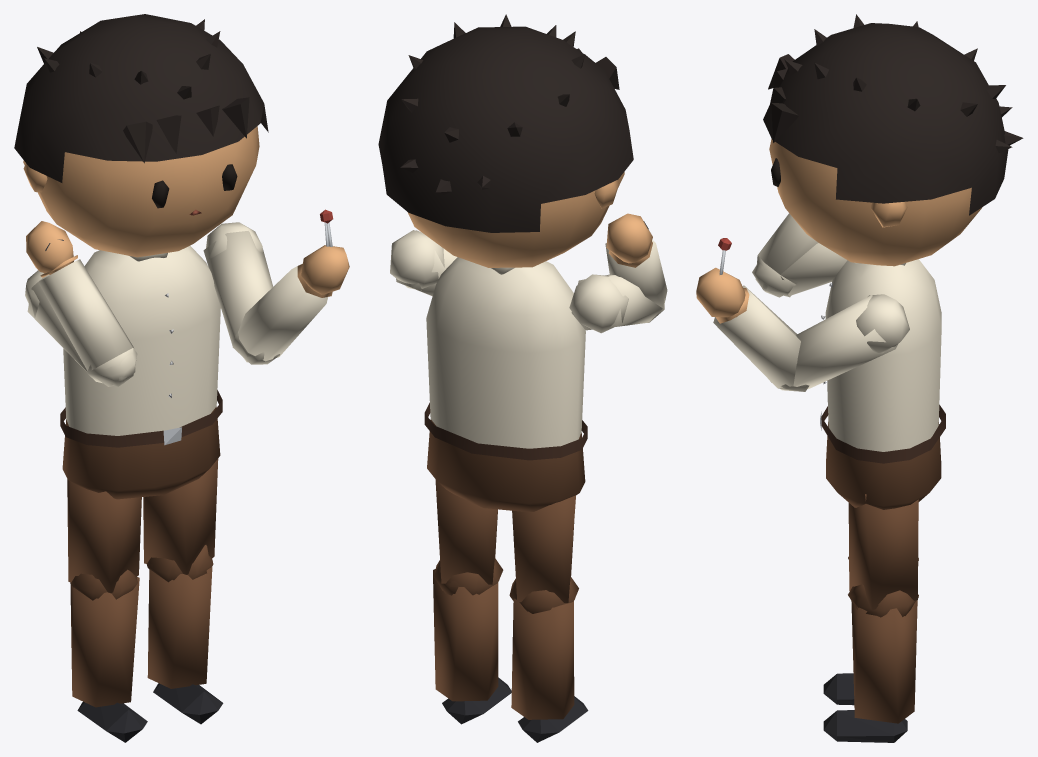
The model's file is east_gem_dealer.glb.
3 renders of one model, left to right at view 1: azimuth 30°, elevation 25°; view 2: azimuth 150°, elevation 25°; view 3: azimuth 270°, elevation 25°, orthographic.
Visible parts, largest first — view 1: head, body, shin_R, shin_L, forearm_R, leg_R, forearm_L, leg_L, arm_L, arm_R; view 2: head, body, shin_L, shin_R, leg_R, leg_L, arm_R, forearm_R, arm_L; view 3: head, body, shin_L, leg_L, arm_L, forearm_L, arm_R, forearm_R, shin_R.
Boxes of the visible parts, <box> form: head: <box>14,14,268,257</box>; body: <box>60,246,222,499</box>; shin_R: <box>70,569,147,742</box>; shin_L: <box>147,545,223,724</box>; forearm_R: <box>26,221,135,386</box>; leg_R: <box>67,479,141,600</box>; forearm_L: <box>238,245,349,362</box>; leg_L: <box>143,458,218,582</box>; arm_L: <box>203,222,279,364</box>; arm_R: <box>25,270,137,386</box>; head: <box>378,14,633,267</box>; body: <box>424,257,587,511</box>; shin_L: <box>433,558,511,724</box>; shin_R: <box>509,577,588,742</box>; leg_R: <box>509,495,578,613</box>; leg_L: <box>434,479,503,595</box>; arm_R: <box>569,274,664,333</box>; forearm_R: <box>605,213,667,308</box>; arm_L: <box>390,230,457,296</box>; head: <box>763,14,1023,266</box>; body: <box>820,259,945,509</box>; shin_L: <box>823,584,918,742</box>; leg_L: <box>848,494,918,617</box>; arm_L: <box>770,294,909,391</box>; forearm_L: <box>696,267,800,389</box>; arm_R: <box>752,243,847,297</box>; forearm_R: <box>755,213,818,297</box>; shin_R: <box>823,558,918,705</box>.
Bounding box in the file's own units: 0.5683 × 1.48 × 0.6396.
